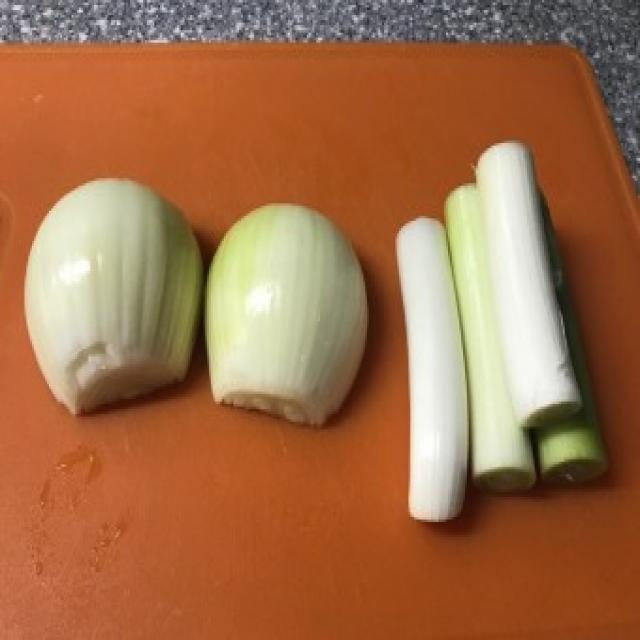onion: (18, 179, 206, 397), (210, 206, 370, 420)
